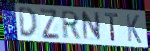D: (17, 6, 39, 40)
K: (125, 13, 143, 45)
N: (81, 11, 102, 42)
R: (61, 10, 81, 40)
T: (104, 12, 120, 43)
Z: (38, 8, 62, 41)
